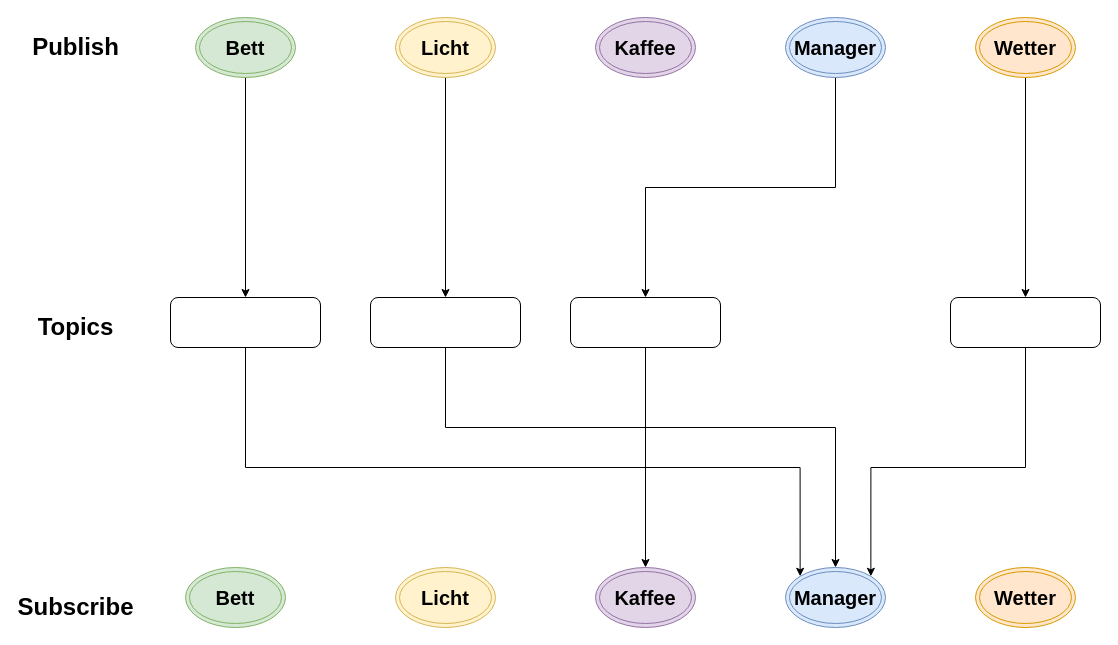
The diagram is 1118 pixels wide and 645 high, and some of its shapes have lost their labels. The centre of each missing label's shape, as x and y in pixels:
"Bett/Bewegungen (0-100%)" goes at pixel 245 322.
"Kaffee/Kaffeestaerke (0-10)" goes at pixel 645 322.
"Licht/Lichtstaerke (0-100%)" goes at pixel 445 322.
"Wetter/Wetterdaten (???)" goes at pixel 1025 322.
